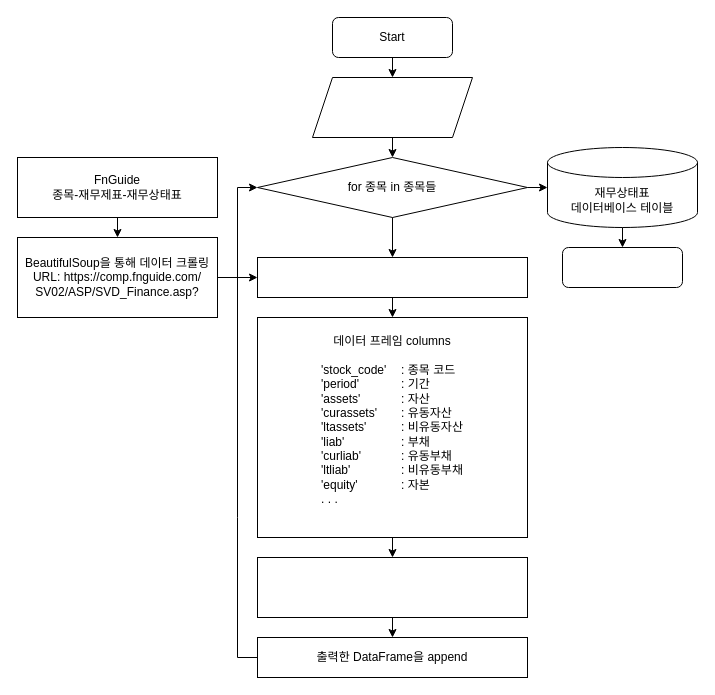
Image size: 715x695. Some labels were removed from this diagram. Here are the shapes that lost their labels. From the top down, the box of each, then its label:
(312, 76, 472, 138): 종목 코드 연결 및 별도 연간 및 분기
(256, 256, 528, 298): FnGuide로부터 재무상태표 불러오기
(562, 246, 682, 288): END
(256, 556, 528, 618): 데이터 프레임 columns 추가 'rpt_type' + 'freq' : 재무제표종류
